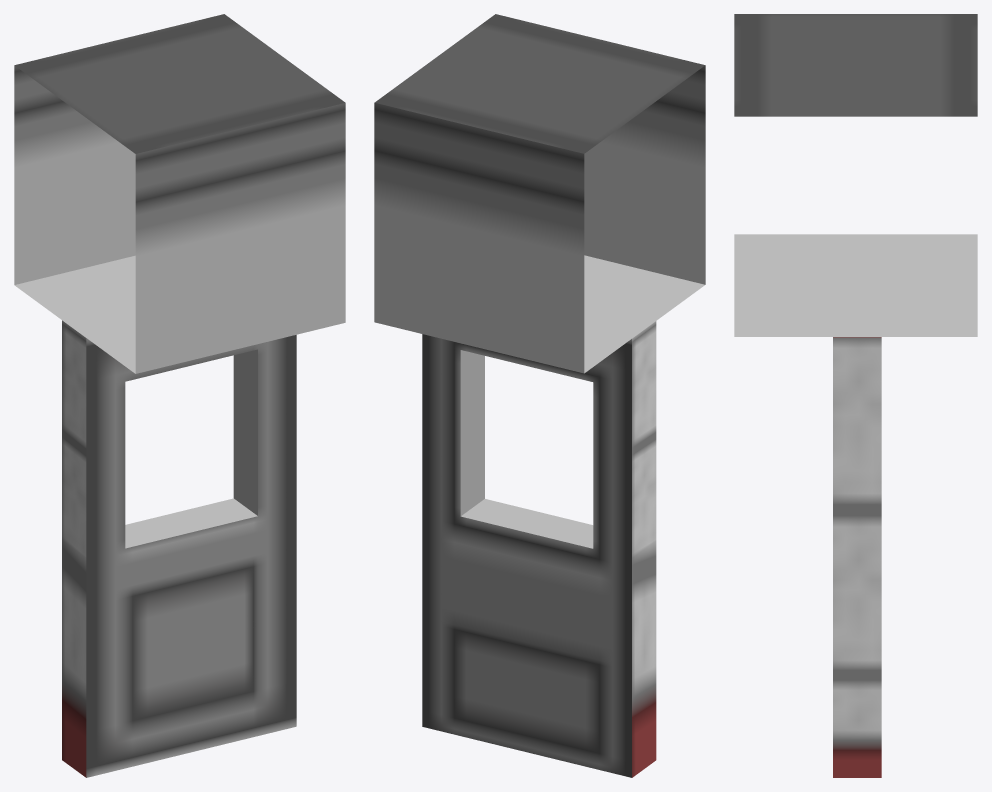
The model's file is Door.fbx.
3 views of the same model, side by side, from view 1: azimuth 30°, elevation 25°; view 2: azimuth 150°, elevation 25°; view 3: azimuth 270°, elevation 25° (orthographic).
Parts seen in each view (by area): view 1: Door; view 2: Door; view 3: Door.
Boxes of the visible parts, x1,y1,x2,y2 form: Door: [14, 14, 345, 777]; Door: [374, 14, 705, 777]; Door: [734, 14, 977, 777].
Size of the model in its own units: 100 by 300 by 100.
